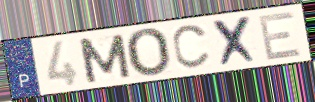4: (45, 39, 80, 88)
C: (170, 22, 212, 71)
E: (256, 9, 304, 63)
M: (76, 32, 134, 85)
O: (123, 27, 172, 79)
X: (210, 13, 262, 69)
